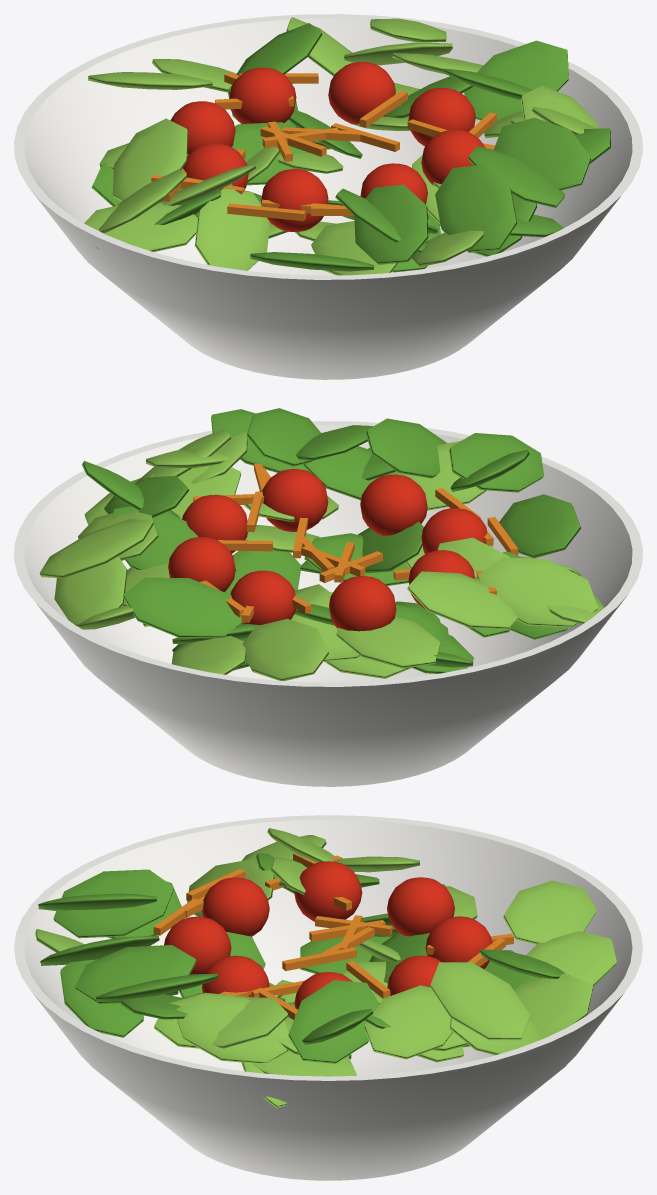
Rendered from salada.glb.
3 views of the same model, one above another, from view 1: azimuth 30°, elevation 25°; view 2: azimuth 150°, elevation 25°; view 3: azimuth 270°, elevation 25° (orthographic).
Visible parts, largest first — view 1: salada; view 2: salada; view 3: salada.
Boxes of the visible parts, <box> form: salada: <box>14,14,642,379</box>; salada: <box>14,408,642,786</box>; salada: <box>14,815,642,1180</box>.
Bounding box in the file's own units: 0.24 × 0.0889 × 0.24.
